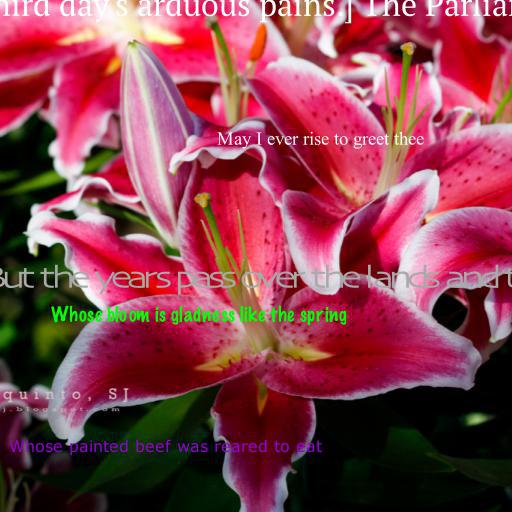Marker Felt: (51, 305, 347, 326)
PT Serif: (0, 0, 512, 24)
Skia: (0, 264, 512, 295)
Times New Roman: (216, 131, 424, 149)
Verdana: (8, 439, 322, 456)
